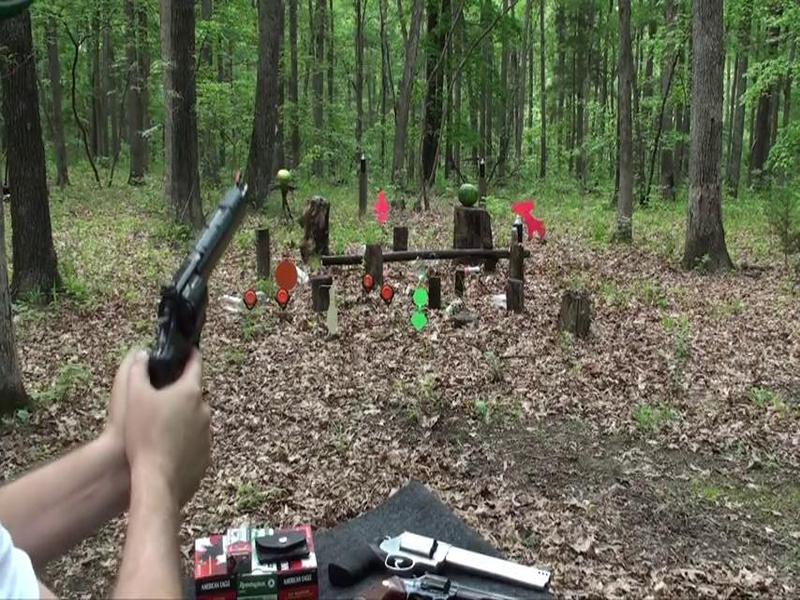Revolver: (133, 165, 277, 421)
